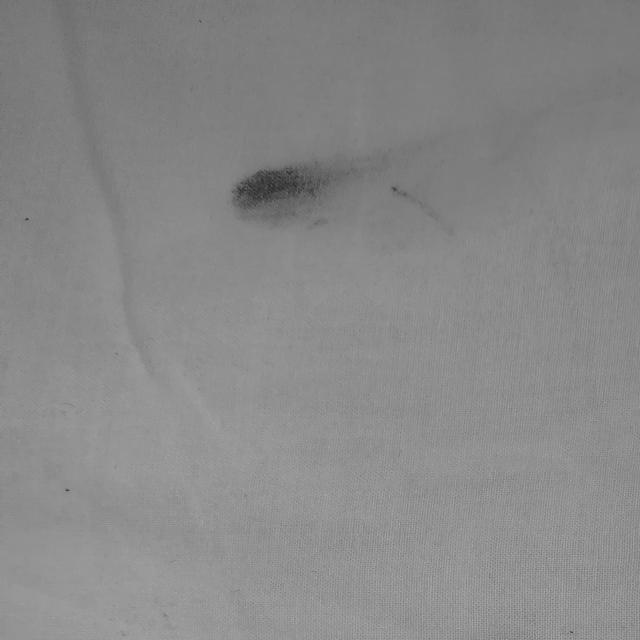Stain: (231, 156, 371, 226), (390, 186, 457, 236)
